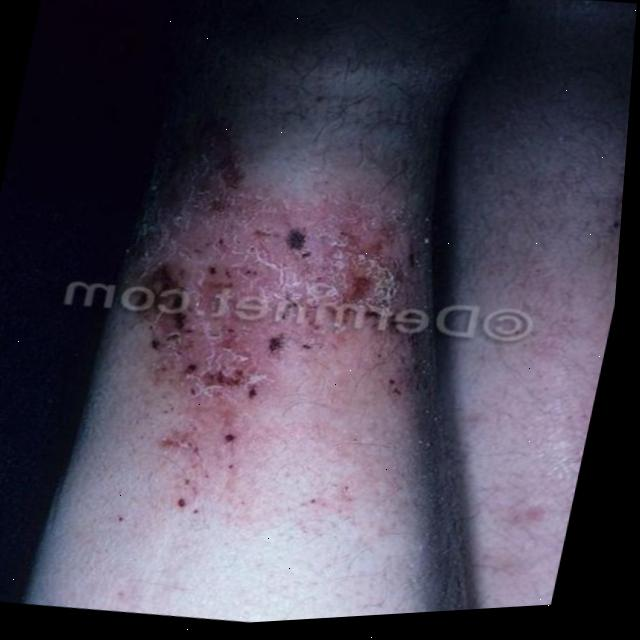Eczema: (9, 64, 492, 543)
